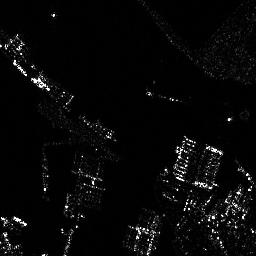ship: (145, 90, 182, 103), (11, 215, 29, 226)
